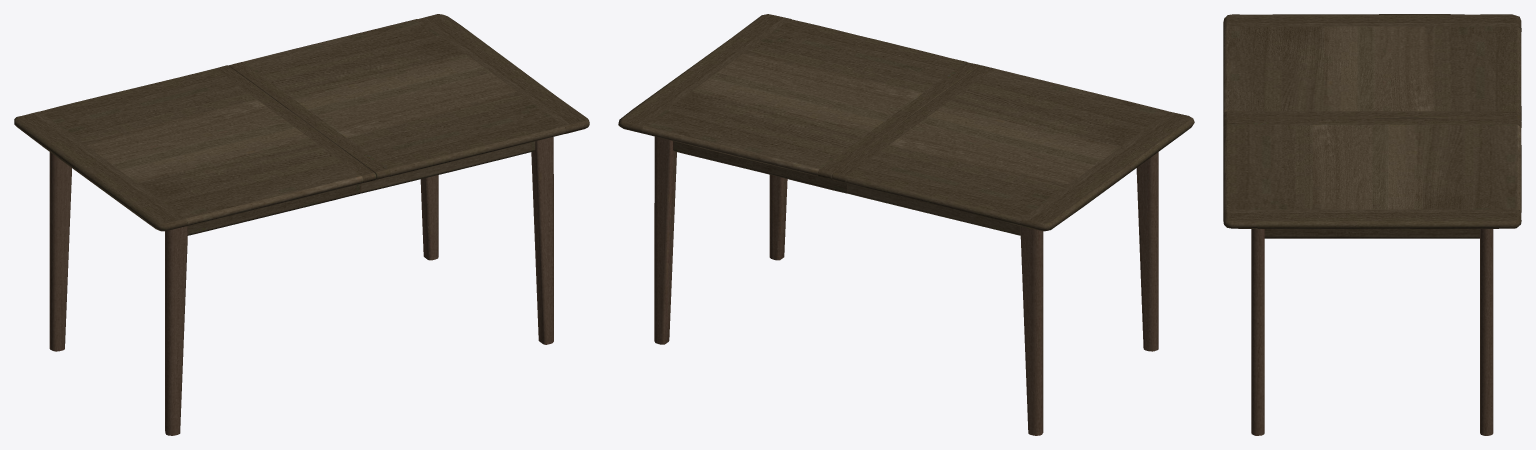
File: skansnaes_extendable_table_brown_beech_v.glb
The picture shows the model from 3 angles, left to right: view 1: azimuth 30°, elevation 25°; view 2: azimuth 150°, elevation 25°; view 3: azimuth 270°, elevation 25°; orthographic projection.
Visible parts, largest first — view 1: ASY_ART_00565758_S01_NV01; view 2: ASY_ART_00565758_S01_NV01; view 3: ASY_ART_00565758_S01_NV01.
Boxes of the visible parts, <box> form: ASY_ART_00565758_S01_NV01: <box>14,14,589,435</box>; ASY_ART_00565758_S01_NV01: <box>618,14,1194,435</box>; ASY_ART_00565758_S01_NV01: <box>1223,14,1521,435</box>.
Size of the model in its own units: 1.5 by 0.75 by 0.901.
Materials: 3 (3 with a texture image).
